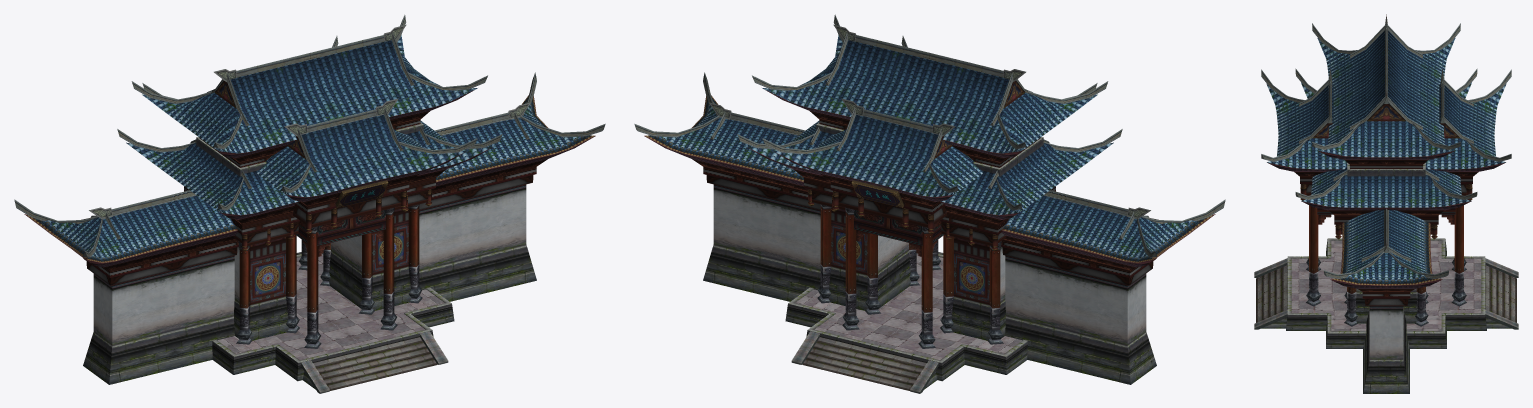
File: Maincity06_Building_czf02_LOD1.FBX
The picture shows the model from 3 angles, left to right: view 1: azimuth 30°, elevation 25°; view 2: azimuth 150°, elevation 25°; view 3: azimuth 270°, elevation 25°; orthographic projection. The views are drawn at different scales.
Visible parts, largest first — view 1: Maincity06_Building_czf02_01_LOD1, Maincity06_Building_czf02_02_LOD1; view 2: Maincity06_Building_czf02_01_LOD1, Maincity06_Building_czf02_02_LOD1; view 3: Maincity06_Building_czf02_01_LOD1, Maincity06_Building_czf02_02_LOD1.
Part boxes in pixels (x1=…): Maincity06_Building_czf02_01_LOD1: x1=14, y1=14, x2=605, y2=393; Maincity06_Building_czf02_02_LOD1: x1=83, y1=119, x2=536, y2=390; Maincity06_Building_czf02_01_LOD1: x1=634, y1=14, x2=1225, y2=393; Maincity06_Building_czf02_02_LOD1: x1=703, y1=119, x2=1156, y2=390; Maincity06_Building_czf02_01_LOD1: x1=1254, y1=14, x2=1518, y2=393; Maincity06_Building_czf02_02_LOD1: x1=1256, y1=165, x2=1516, y2=322.
Bounding box in the file's own units: 4037 × 2045 × 1992.
